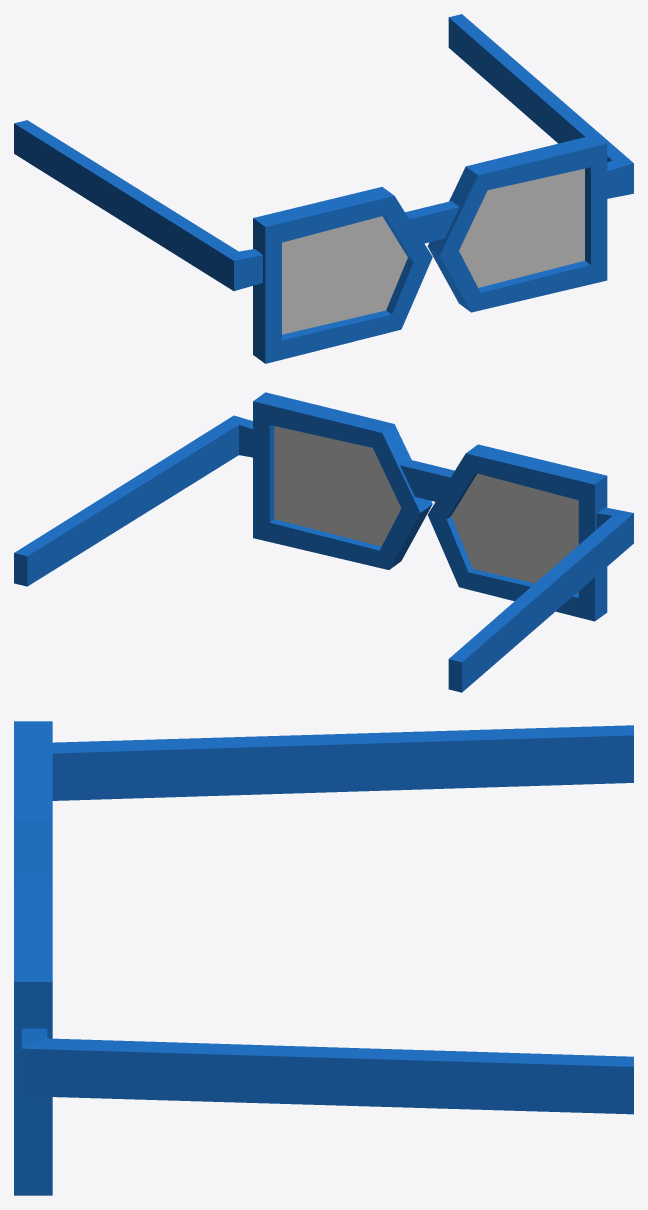
File: SM_glasses.fbx
3 views of the same model, one above another, from view 1: azimuth 30°, elevation 25°; view 2: azimuth 150°, elevation 25°; view 3: azimuth 270°, elevation 25° (orthographic). The views are drawn at different scales.
Visible parts, largest first — view 1: glasses; view 2: glasses; view 3: glasses.
Part boxes in pixels (left/top/right/bottom): glasses: left=14, top=14, right=633, bottom=363; glasses: left=14, top=392, right=633, bottom=692; glasses: left=14, top=721, right=633, bottom=1195.
Size of the model in its own units: 20.11 by 5.87 by 15.42.
